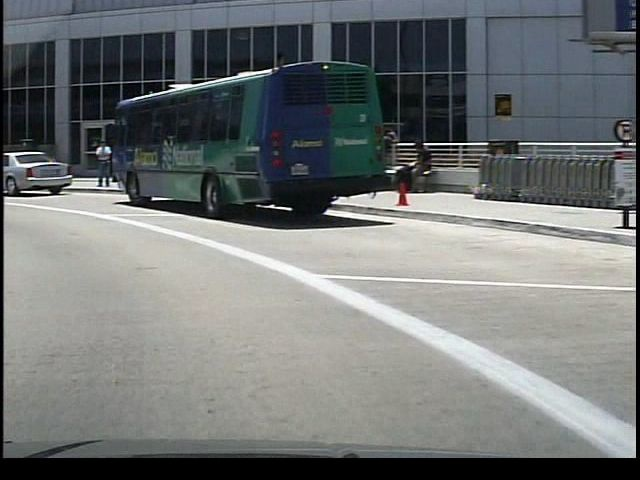person: (394, 135, 430, 198), (89, 138, 111, 189)
